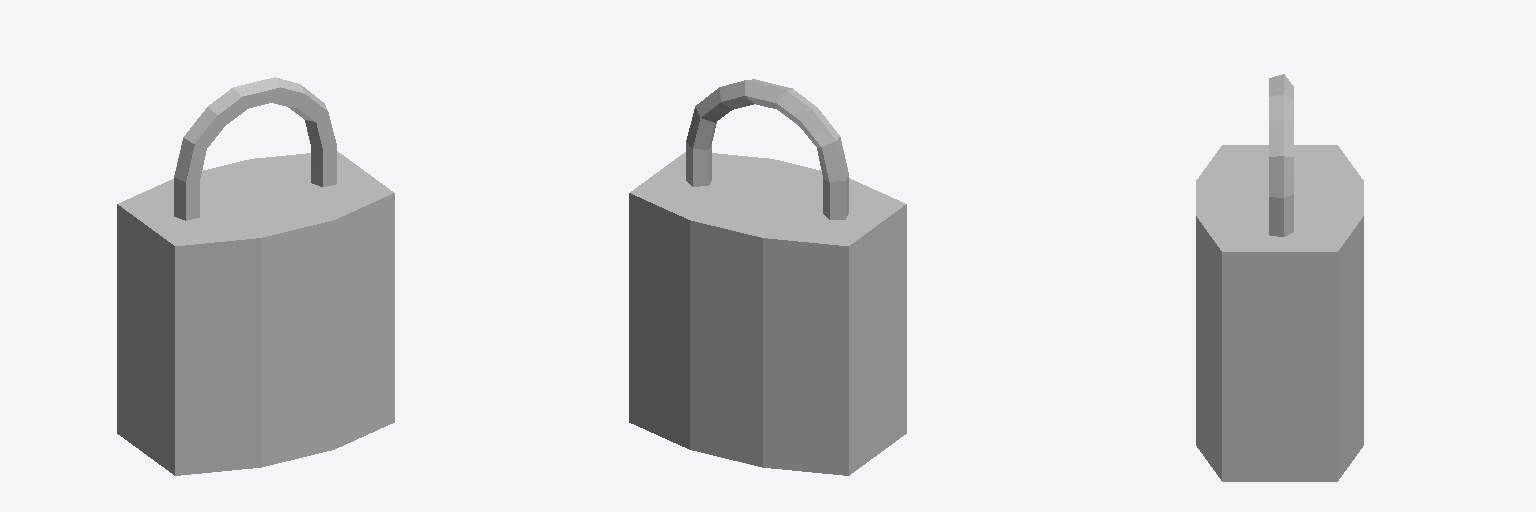
Rendered from comicallylargepadlockmesh.obj.
The picture shows the model from 3 angles: view 1: azimuth 30°, elevation 25°; view 2: azimuth 150°, elevation 25°; view 3: azimuth 270°, elevation 25°; orthographic projection.
Parts seen in each view (by area): view 1: Cube.003; view 2: Cube.003; view 3: Cube.003.
Part boxes in pixels (x1,y1,x2,y2): Cube.003: (117,77,394,475); Cube.003: (629,79,906,475); Cube.003: (1196,74,1363,481).
Size of the model in its own units: 2 by 3 by 1.32.